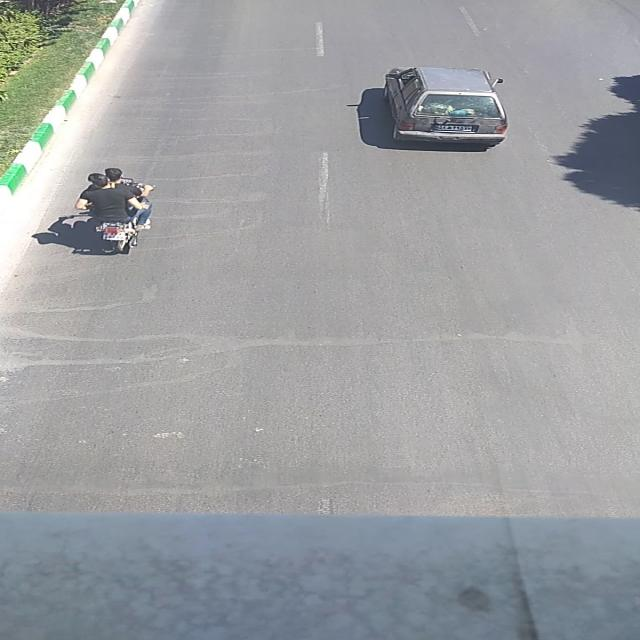car: (384, 66, 507, 145)
motor: (78, 170, 152, 257)
